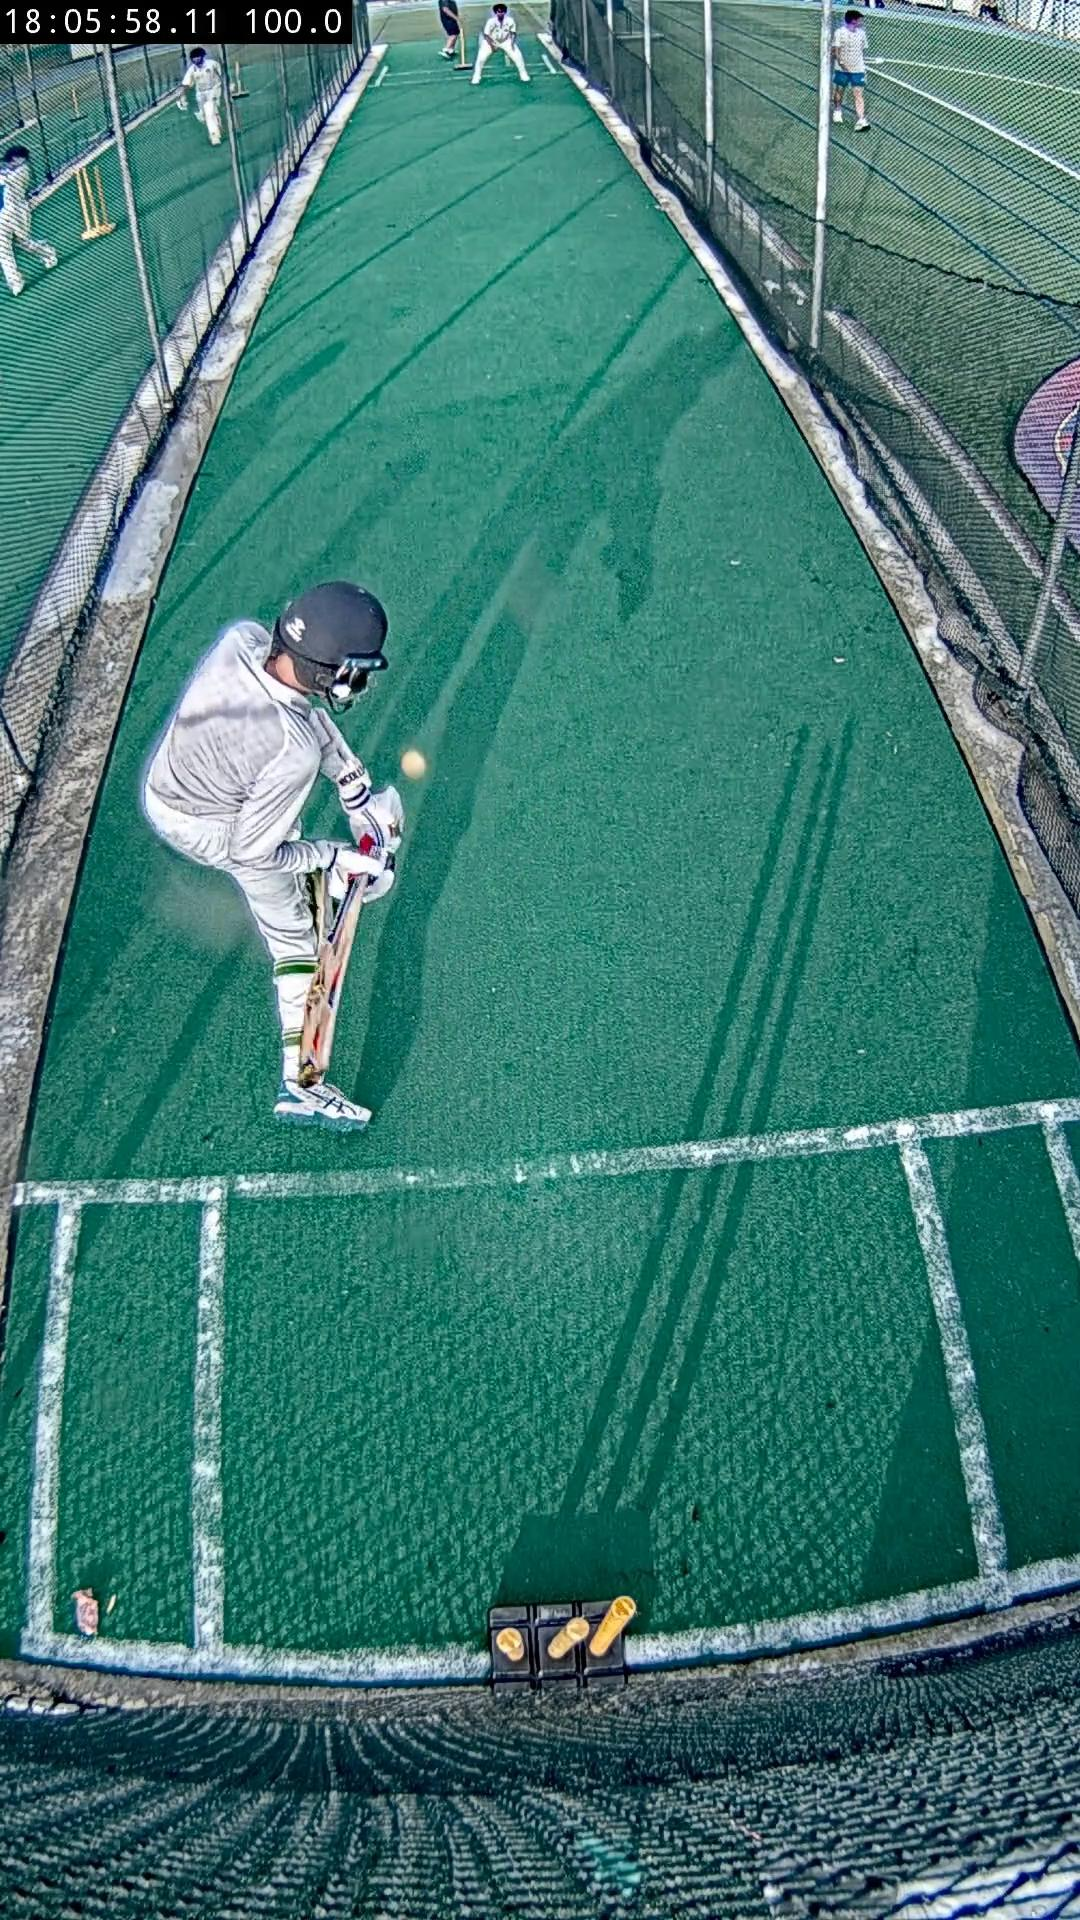ball: (401, 750, 427, 781)
bat: (301, 874, 364, 1088)
gloves: (330, 848, 394, 899), (364, 783, 405, 849), (348, 810, 368, 840)
helmet: (274, 582, 386, 708)
stumps: (488, 1594, 637, 1692)
